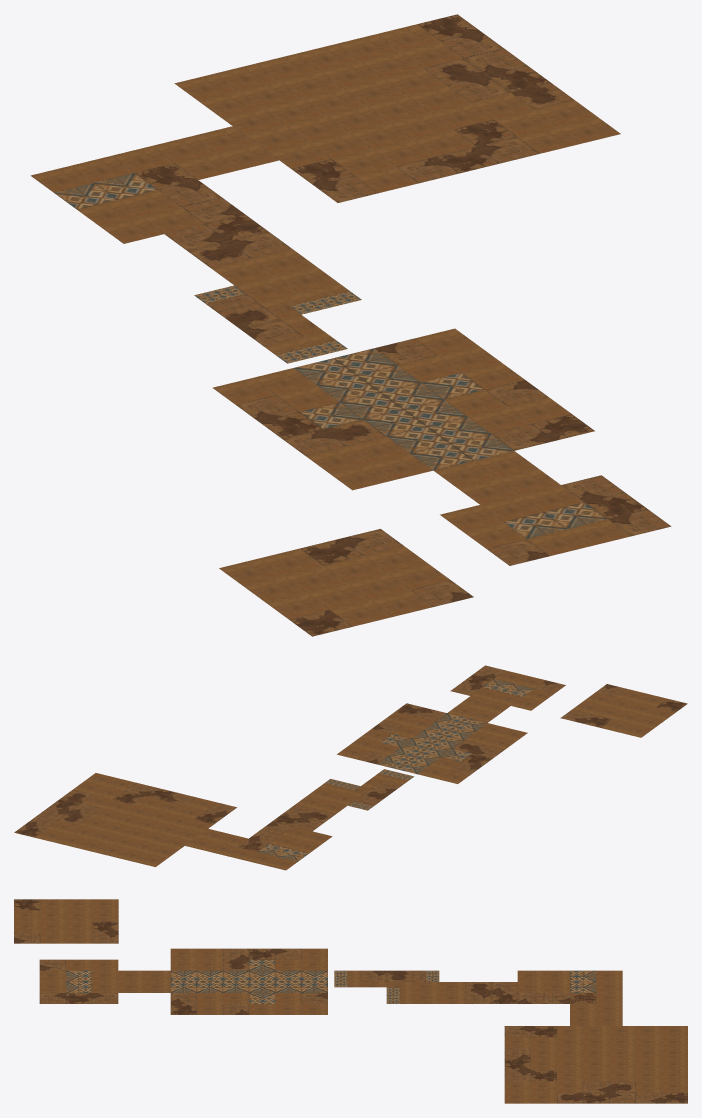
File: Pyramid_Grave3F_all.FBX
3 renders of one model, top to bottom at view 1: azimuth 30°, elevation 25°; view 2: azimuth 150°, elevation 25°; view 3: azimuth 270°, elevation 25°, orthographic. The views are drawn at different scales.
Visible parts, largest first — view 1: Pyramid_Grave3F04, Pyramid_Grave3F02, Pyramid_Grave3F03, Pyramid_Grave3F01; view 2: Pyramid_Grave3F04, Pyramid_Grave3F02, Pyramid_Grave3F03, Pyramid_Grave3F01; view 3: Pyramid_Grave3F04, Pyramid_Grave3F02, Pyramid_Grave3F03, Pyramid_Grave3F01.
Part boxes in pixels (x1,y1,x2,y2): Pyramid_Grave3F04: (30,14,620,206); Pyramid_Grave3F02: (212,328,671,565); Pyramid_Grave3F03: (54,163,361,363); Pyramid_Grave3F01: (219,529,473,636); Pyramid_Grave3F04: (14,773,304,870); Pyramid_Grave3F02: (337,665,565,783); Pyramid_Grave3F03: (237,769,414,861); Pyramid_Grave3F01: (560,684,687,737); Pyramid_Grave3F04: (504,970,687,1103); Pyramid_Grave3F02: (39,948,327,1014); Pyramid_Grave3F03: (334,970,596,1003); Pyramid_Grave3F01: (14,899,118,943).
Bounding box in the file's own units: 73.79 × 6.04e-07 × 103.
